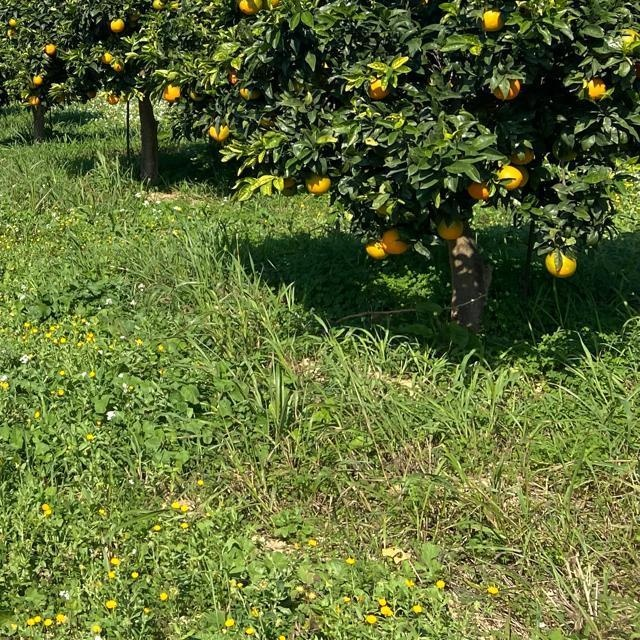orange: (228, 60, 262, 100), (544, 245, 578, 277), (489, 71, 523, 101), (611, 26, 639, 60), (435, 213, 465, 241), (499, 159, 527, 187), (382, 229, 410, 255), (363, 74, 389, 102), (465, 175, 491, 201), (304, 170, 330, 194), (479, 5, 503, 31), (205, 119, 231, 141), (586, 77, 608, 99), (364, 236, 384, 256), (278, 172, 296, 194), (238, 0, 266, 14), (162, 81, 182, 99), (108, 13, 124, 33), (41, 41, 59, 55), (26, 90, 40, 106), (100, 52, 112, 66), (151, 0, 165, 10), (263, 0, 287, 5), (32, 74, 44, 84), (108, 93, 118, 105), (7, 16, 17, 26), (86, 88, 96, 98), (114, 61, 122, 71)
